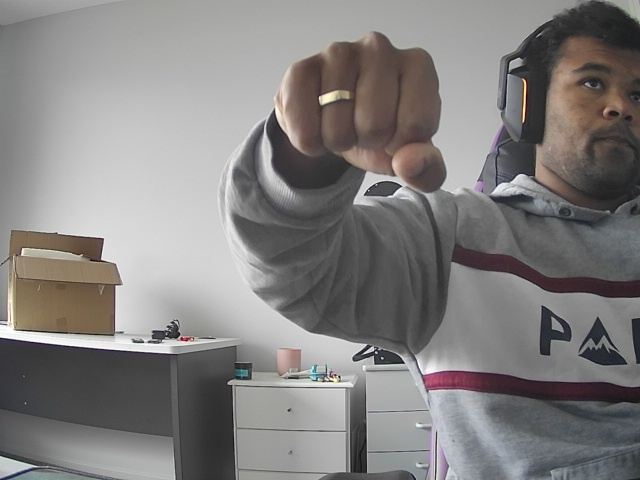Yes: (247, 4, 480, 202)
